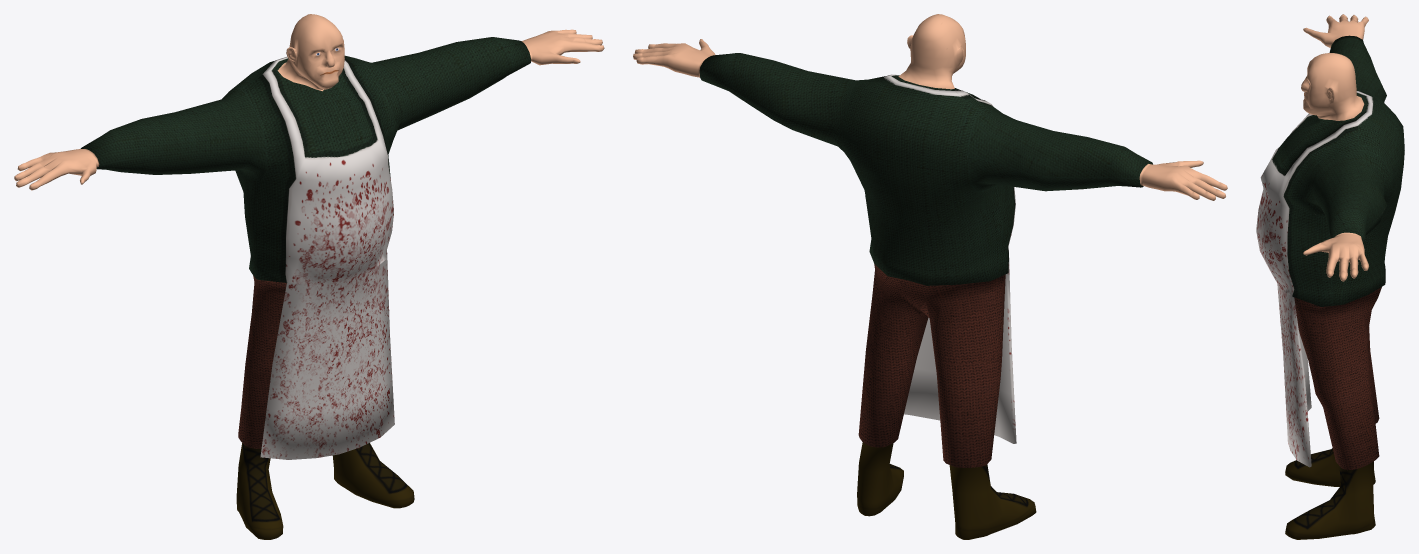
Rendered from butcher_noRig.fbx.
3 views of the same model, side by side, from view 1: azimuth 30°, elevation 25°; view 2: azimuth 150°, elevation 25°; view 3: azimuth 270°, elevation 25° (orthographic). The views are drawn at different scales.
Parts seen in each view (by area): view 1: Object_13; view 2: Object_13; view 3: Object_13.
Boxes of the visible parts, x1,y1,x2,y2 form: Object_13: (14,14,604,539); Object_13: (633,14,1227,539); Object_13: (1256,14,1404,539).
Bounding box in the file's own units: 238 × 190 × 56.72.
1 material, 1 textured.
